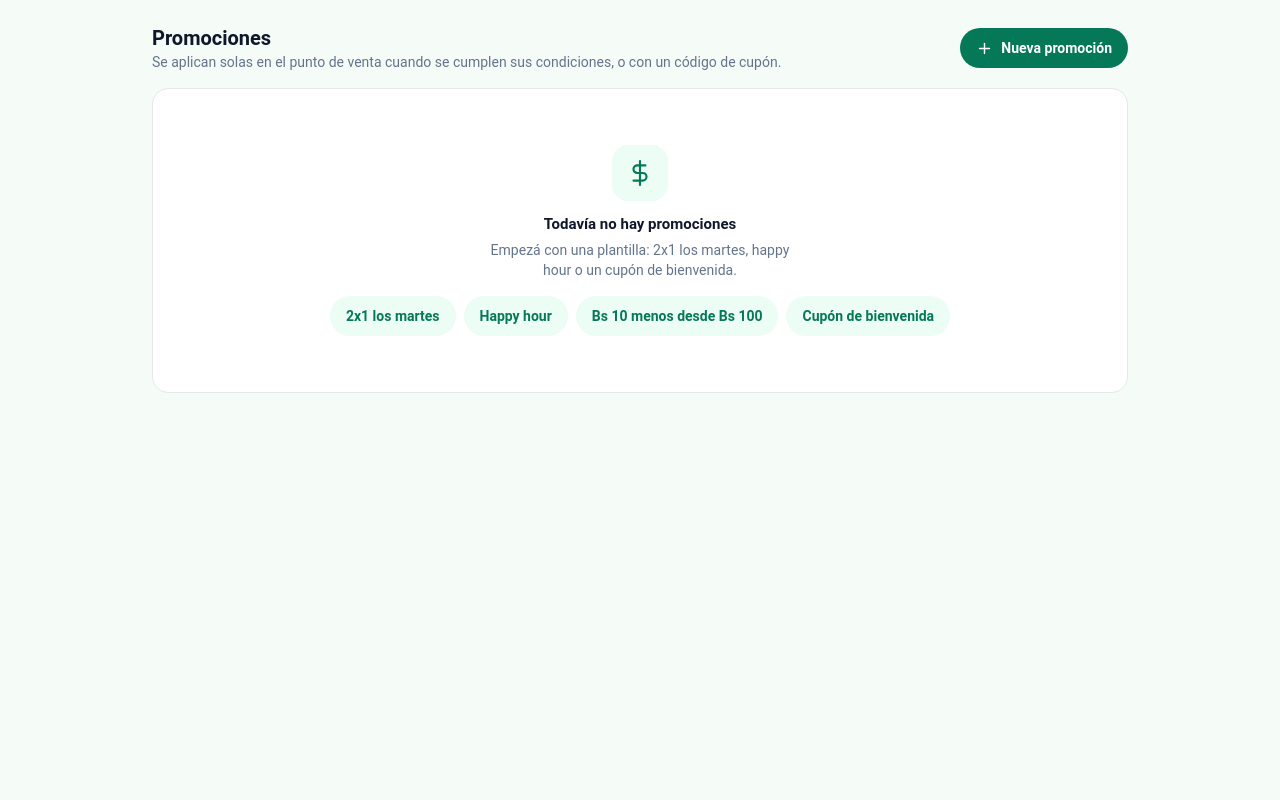
Test case: Promociones › código del cupón en la misma promoción (§12, decisión 8) › al elegir «Con código» lo pide, lo limpia y avisa que está libre
Click the button "Cupón de bienvenida" at (868,316), box [786,296,950,336]
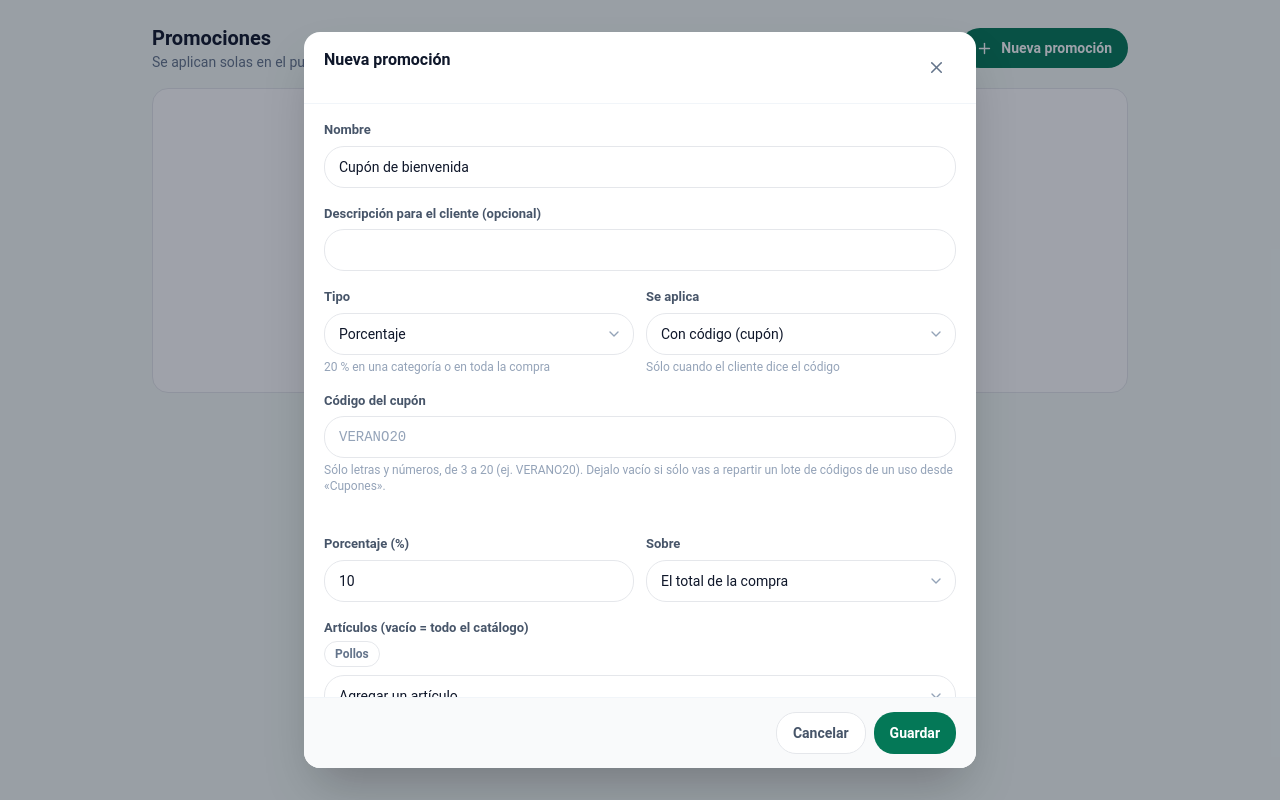
Type "verano 20%" into the field labelled "Código del cupón" at (640,437), box [324,416,956,458]
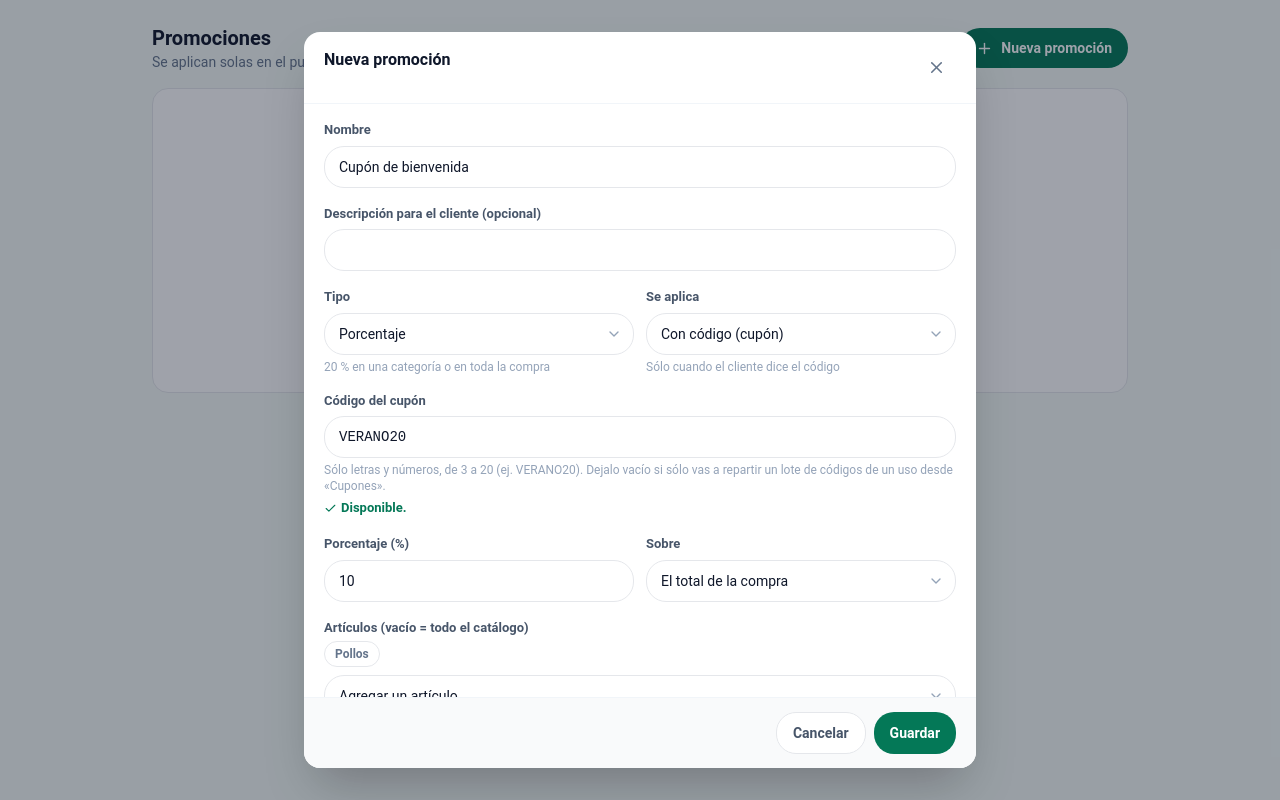
Check: the field labelled "Código del cupón" holds "VERANO20", box [324,416,956,458]
Check: the text "Disponible." is shown, box [324,500,407,515]
Click the button "Guardar" at (915,733), box [874,712,956,754]
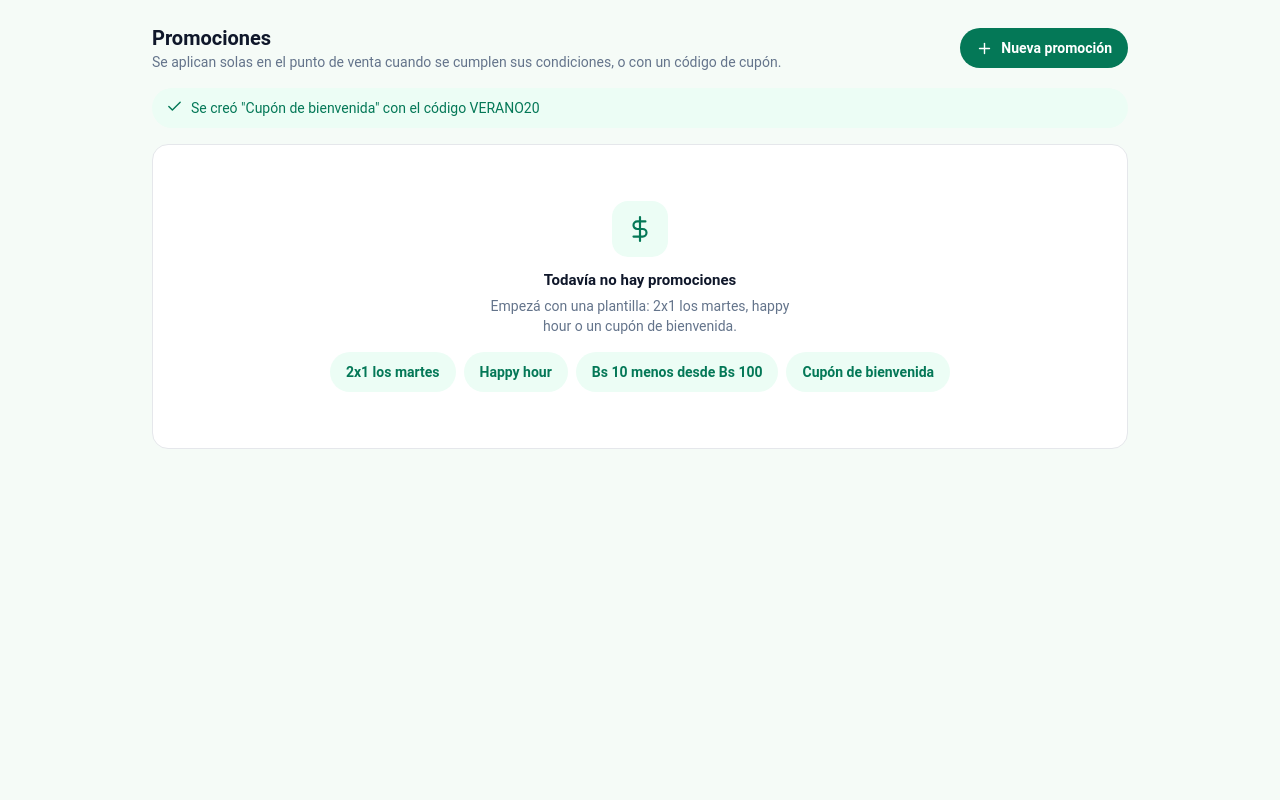
Check: the text "Se creó \"Cupón de bienvenida\" con el código VERANO20" is shown, box [191,98,540,118]
